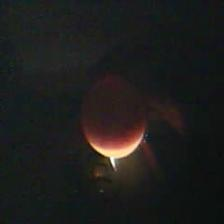fertile: (74, 68, 151, 162)
